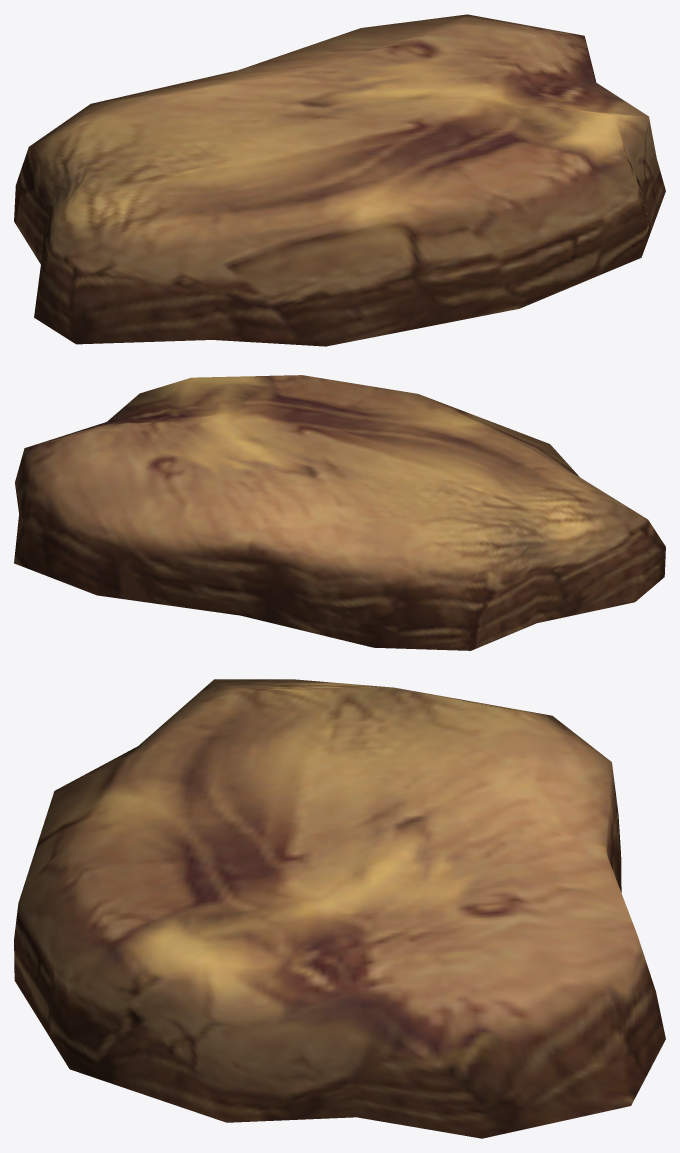
The model's file is nashgar_natural_rock_small02_02.FBX.
3 renders of one model, top to bottom at view 1: azimuth 30°, elevation 25°; view 2: azimuth 150°, elevation 25°; view 3: azimuth 270°, elevation 25°, orthographic. The views are drawn at different scales.
Visible parts, largest first — view 1: nashgar_natural_rock_small02_02; view 2: nashgar_natural_rock_small02_02; view 3: nashgar_natural_rock_small02_02.
Boxes of the visible parts, x1,y1,x2,y2 form: nashgar_natural_rock_small02_02: (14,14,665,346); nashgar_natural_rock_small02_02: (14,375,665,650); nashgar_natural_rock_small02_02: (14,679,665,1138).
Bounding box in the file's own units: 6.52 × 1.02 × 4.6.
